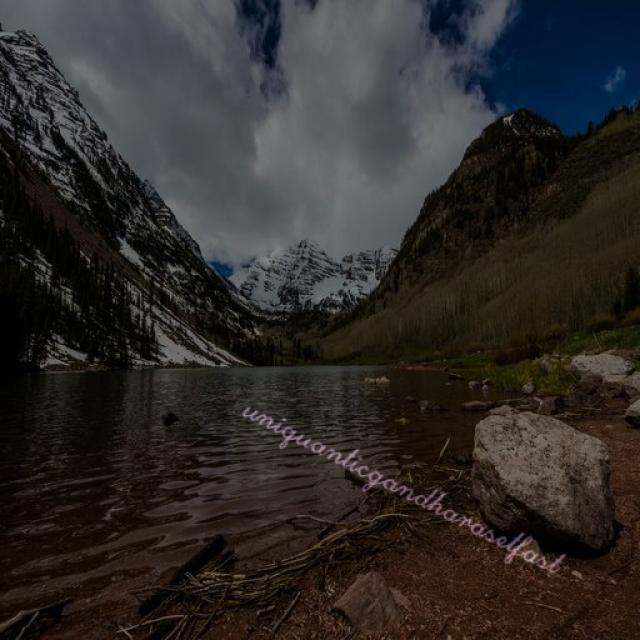watermark: (233, 390, 578, 580)
